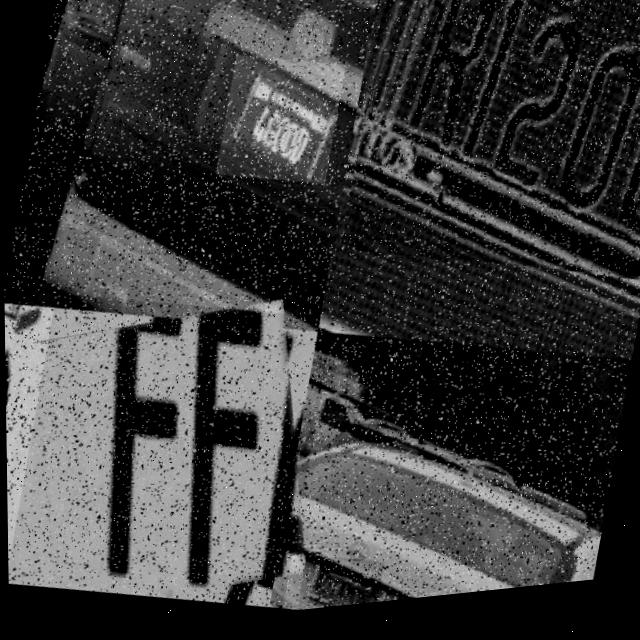LicensePlate: (3, 271, 336, 636), (336, 0, 640, 316), (213, 51, 347, 200), (299, 562, 379, 613)
